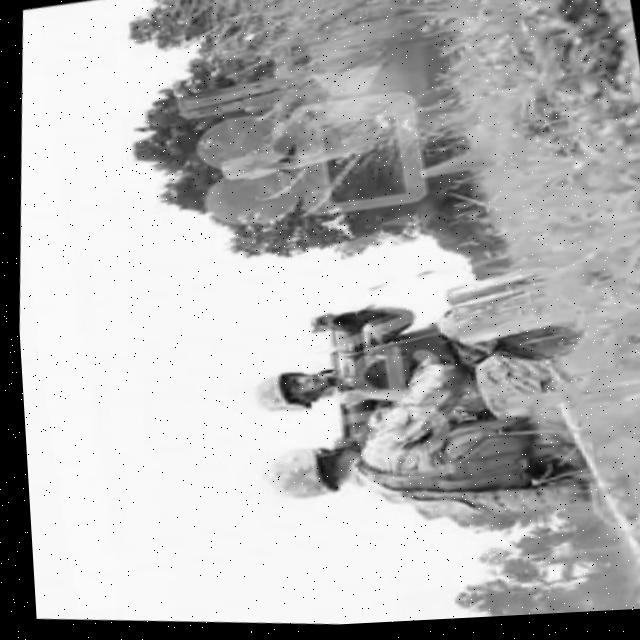rocket: (302, 305, 394, 430)
